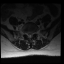CCS_normal: (29, 31, 30, 38)
LFS_stenosis: (32, 31, 34, 35)
LLS_normal: (30, 32, 32, 37)
RFS_normal: (25, 31, 27, 35)
RLS_normal: (27, 31, 29, 37)
